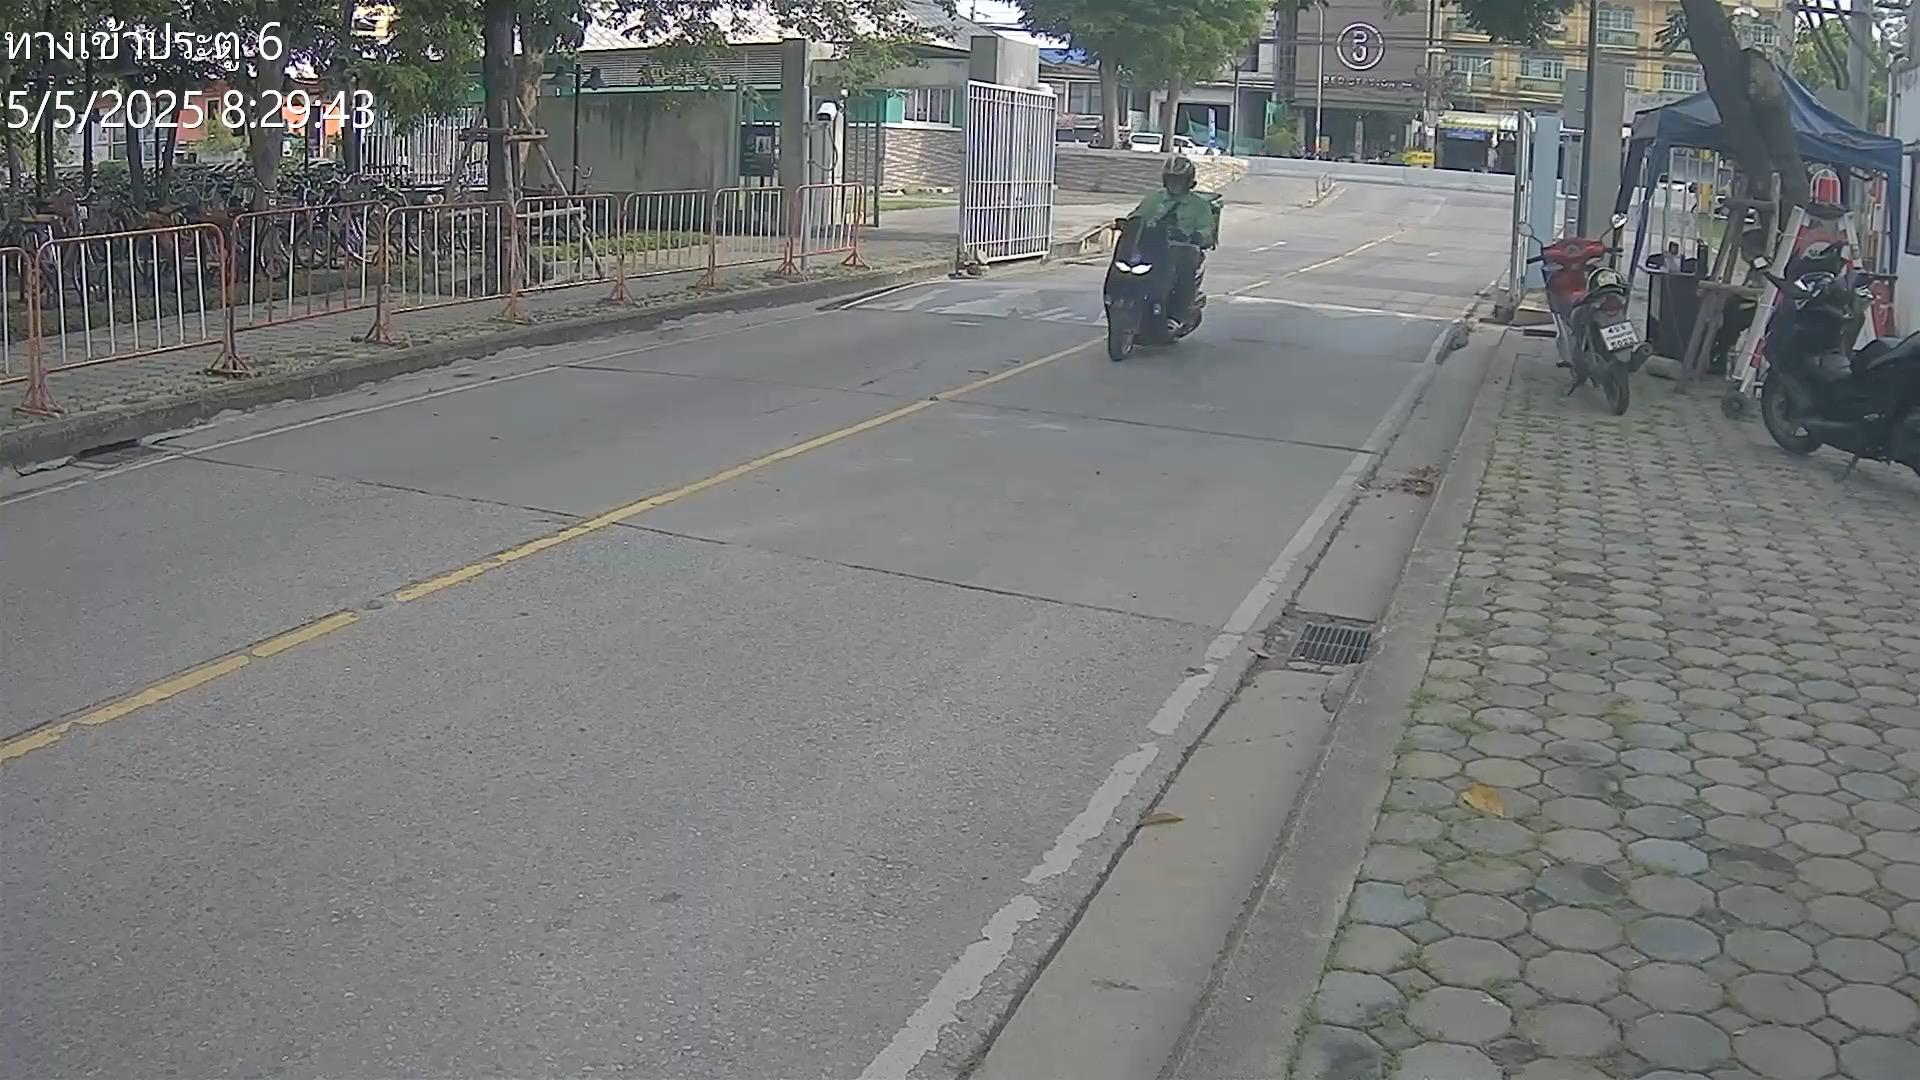With-Helmet: (1155, 153, 1200, 198)
